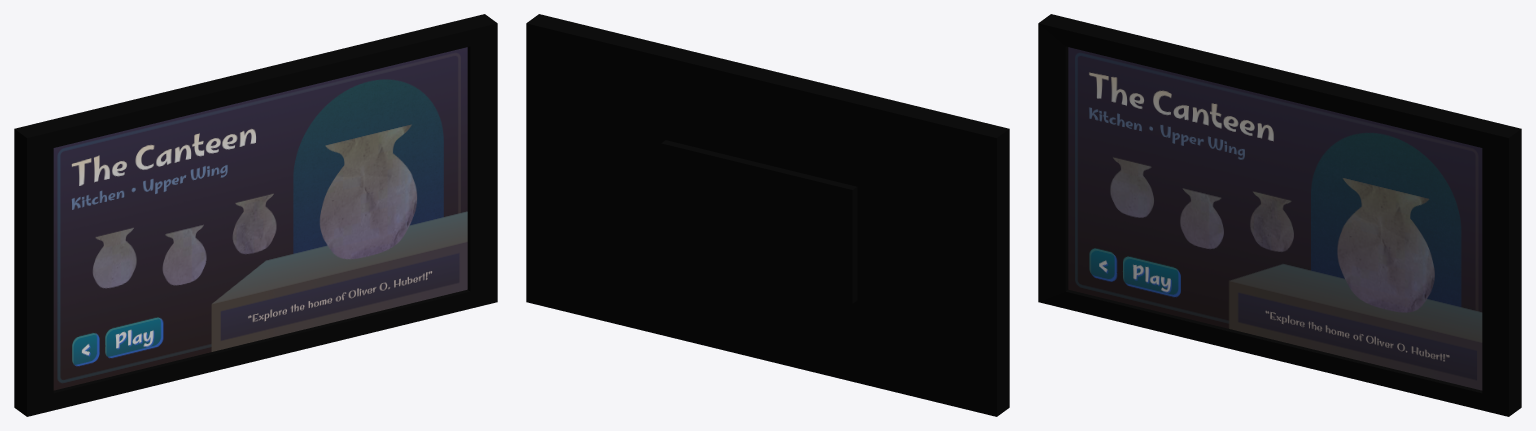
File: Kiosk.fbx
3 views of the same model, side by side, from view 1: azimuth 30°, elevation 25°; view 2: azimuth 150°, elevation 25°; view 3: azimuth 330°, elevation 25° (orthographic).
Parts seen in each view (by area): view 1: TheImage.001, Cube; view 2: Cube; view 3: TheImage.001, Cube.
Boxes of the visible parts, x1,y1,x2,y2 form: TheImage.001: (53, 47, 467, 390); Cube: (14, 14, 497, 416); Cube: (526, 14, 1009, 416); TheImage.001: (1068, 47, 1482, 390); Cube: (1038, 14, 1521, 416).
Bounding box in the file's own units: 565 × 320 × 36.06.
